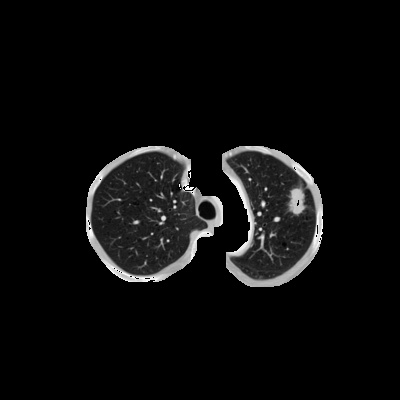PN: (286, 191, 308, 213)
